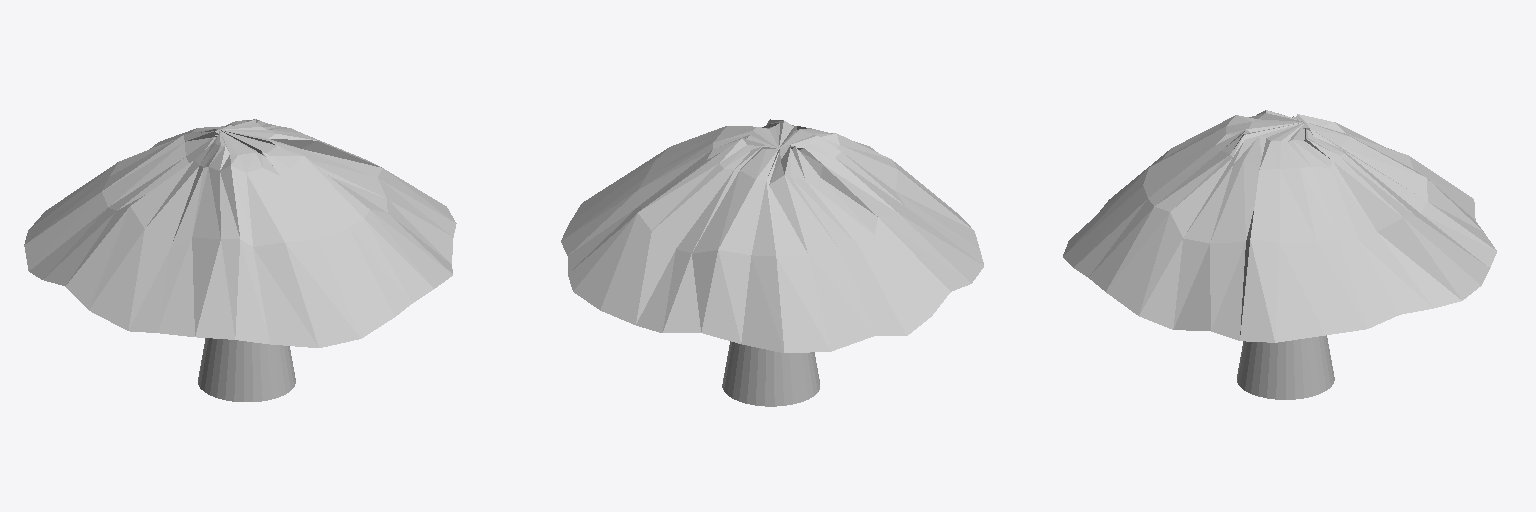
Rendered from FlatMushroom.obj.
3 renders of one model, left to right at view 1: azimuth 30°, elevation 25°; view 2: azimuth 150°, elevation 25°; view 3: azimuth 270°, elevation 25°, orthographic.
Parts seen in each view (by area): view 1: Circle; view 2: Circle; view 3: Circle.
Part boxes in pixels (bbox=[...]): Circle: bbox=[24, 119, 456, 401]; Circle: bbox=[561, 119, 983, 406]; Circle: bbox=[1063, 110, 1496, 399].
Bounding box in the file's own units: 2.64 × 1.69 × 2.63.